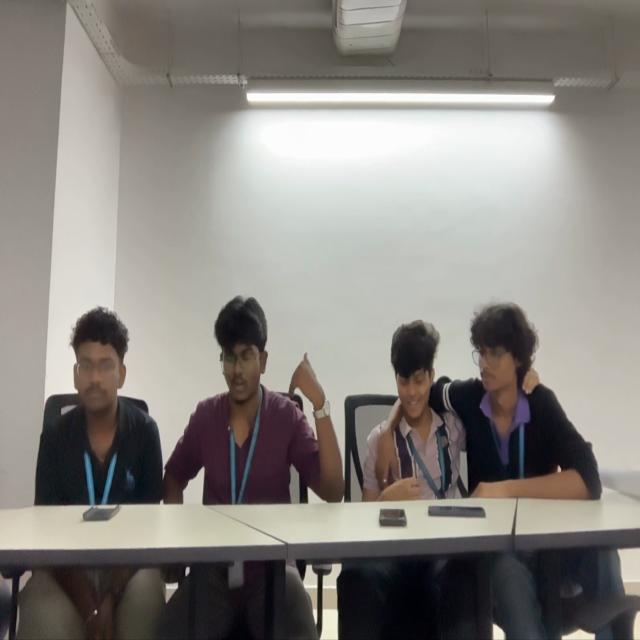Isolated: (166, 294, 342, 501), (34, 307, 160, 498)
socializing: (361, 299, 602, 501)
